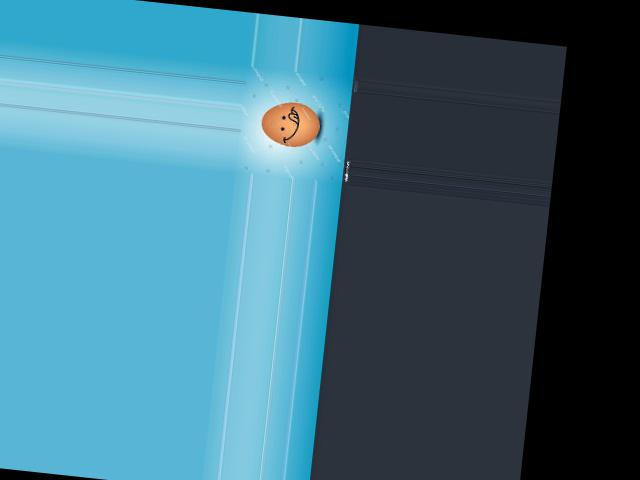egg: (259, 98, 322, 149)
